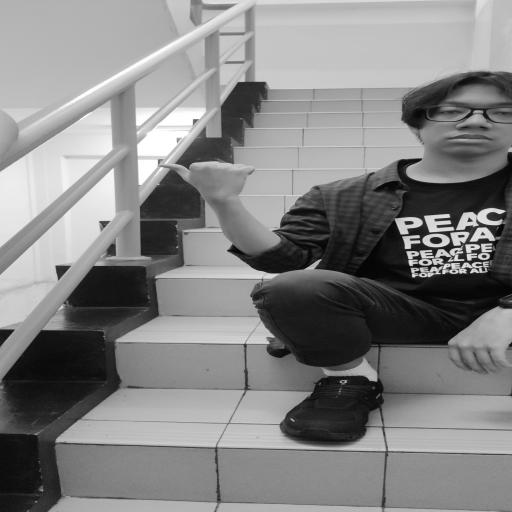back: (148, 153, 275, 203)
